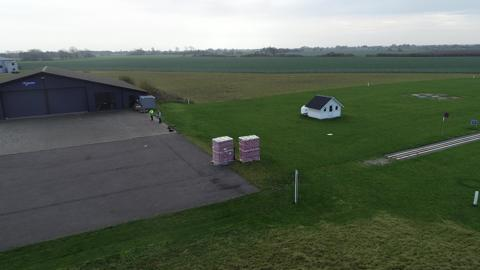RockwoolPallet: (238, 134, 260, 162)
